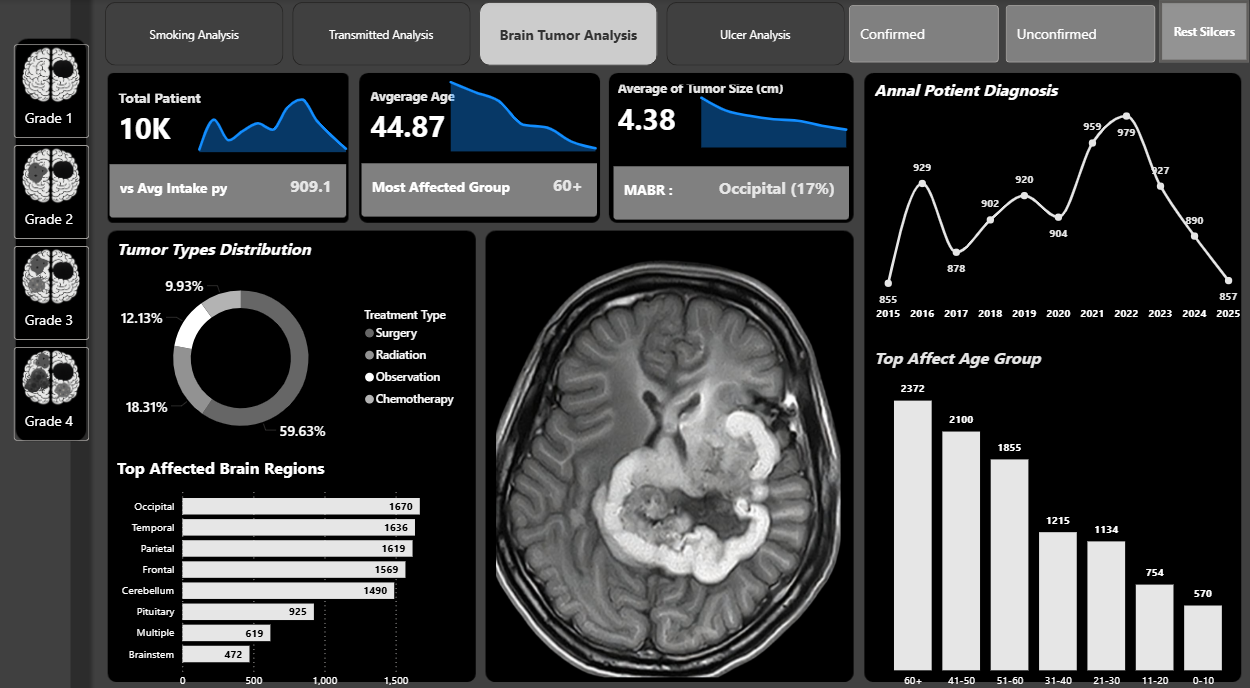

The page's visual inventory and layout, read from the dashboard file:
{"tool":"powerbi","page":{"name":"Brain Tumor Analysis","canvas":[1440,810],"ordinal":2},"visuals":[{"type":"cardVisual","fields":{"Data":["CountNonNull(Brain Tumor Data.Patient ID)"]},"box":[107.4,94.1,170.6,89.7],"z":0},{"type":"lineChart","title":"Total Patient ID by Year","fields":{"Category":["Brain Tumor Data.Date of Diagnosis.Variation.Date Hierarchy.Year"],"Y":["CountNonNull(Brain Tumor Data.Patient ID)"]},"box":[213.2,94.1,198.5,89.7],"z":1000},{"type":"cardVisual","fields":{"Data":["CountNonNull(Brain Tumor Data.Patient ID)"]},"box":[97.1,79.4,330.9,204.4],"z":2000},{"type":"cardVisual","fields":{"Data":["DAX Measures.Avg of Age"]},"box":[397.4,93.5,192.2,89.6],"z":3000},{"type":"lineChart","title":"Total Patient ID by Year","fields":{"Category":["Brain Tumor Data.Age Group"],"Y":["CountNonNull(Brain Tumor Data.Patient ID)"]},"box":[501.5,79.4,198.5,104.4],"z":4000},{"type":"cardVisual","fields":{"Data":["CountNonNull(Brain Tumor Data.Patient ID)"]},"box":[387,77.9,329.9,205.2],"z":5000},{"type":"cardVisual","fields":{"Data":["Avg(Brain Tumor Data.Tumor Size (cm))"]},"box":[681.8,84.4,251.9,89.6],"z":6000},{"type":"lineChart","title":"Total Patient ID by Year","fields":{"Category":["Brain Tumor Data.Age Group"],"Y":["Sum(Brain Tumor Data.Tumor Size (cm))"]},"box":[789.6,76.6,198.7,103.9],"z":7000},{"type":"cardVisual","fields":{"Data":["CountNonNull(Brain Tumor Data.Patient ID)"]},"box":[676.6,80.5,329.9,205.2],"z":8000},{"type":"advancedSlicerVisual","fields":{"Values":["Brain Tumor Data.Histology Confirmation"]},"box":[971,5.8,362.3,76.8],"z":9000},{"type":"advancedSlicerVisual","fields":{"Values":["Tumor Images.Tumor Grade"]},"box":[10.1,50.7,97.1,469.6],"z":10000},{"type":"image","box":[564.9,277.9,405.2,527.3],"z":11000},{"type":"donutChart","title":"Tumor Types  Distribution","fields":{"Category":["Brain Tumor Data.Treatment Type"],"Y":["CountNonNull(Brain Tumor Data.Patient ID)"]},"box":[129.9,277.9,410.4,251.9],"z":12000},{"type":"clusteredBarChart","title":"Top Affected Brain Regions","fields":{"Category":["Brain Tumor Data.Affected Brain Region"],"Y":["CountNonNull(Brain Tumor Data.Patient ID)"]},"box":[129.9,529.9,410.4,275.3],"z":13000},{"type":"lineChart","title":"Annal Potient  Diagnosis","fields":{"Y":["CountNonNull(Brain Tumor Data.Patient ID)"],"Category":["Brain Tumor Data.Date of Diagnosis.Variation.Date Hierarchy.Year"]},"box":[1000,94.8,432.5,288.3],"z":14000},{"type":"clusteredColumnChart","title":"Top Affect Age Group","fields":{"Category":["Brain Tumor Data.Age Group"],"Y":["CountNonNull(Brain Tumor Data.Patient ID)"]},"box":[1000,403.9,432.5,401.3],"z":15000},{"type":"pageNavigator","box":[120.3,7.2,850.7,73.9],"z":16000},{"type":"actionButton","box":[1333.3,5.8,102.9,71],"z":17000}]}

Visuals, with their boxes in screenshot pixels (x1, y1, x2, y2), scaled from the page's 1440x810 canvas onto the 1250x688 screenshot:
cardVisual - CountNonNull(Brain Tumor Data.Patient ID): BBox(93, 80, 241, 156)
"Total Patient ID by Year" lineChart: BBox(185, 80, 357, 156)
cardVisual - CountNonNull(Brain Tumor Data.Patient ID): BBox(84, 67, 372, 241)
cardVisual - DAX Measures.Avg of Age: BBox(345, 79, 512, 156)
"Total Patient ID by Year" lineChart: BBox(435, 67, 608, 156)
cardVisual - CountNonNull(Brain Tumor Data.Patient ID): BBox(336, 66, 622, 240)
cardVisual - Avg(Brain Tumor Data.Tumor Size (cm)): BBox(592, 72, 811, 148)
"Total Patient ID by Year" lineChart: BBox(685, 65, 858, 153)
cardVisual - CountNonNull(Brain Tumor Data.Patient ID): BBox(587, 68, 874, 243)
advancedSlicerVisual - Brain Tumor Data.Histology Confirmation: BBox(843, 5, 1157, 70)
advancedSlicerVisual - Tumor Images.Tumor Grade: BBox(9, 43, 93, 442)
image: BBox(490, 236, 842, 684)
"Tumor Types  Distribution" donutChart: BBox(113, 236, 469, 450)
"Top Affected Brain Regions" clusteredBarChart: BBox(113, 450, 469, 684)
"Annal Potient  Diagnosis" lineChart: BBox(868, 81, 1243, 325)
"Top Affect Age Group" clusteredColumnChart: BBox(868, 343, 1243, 684)
pageNavigator: BBox(104, 6, 843, 69)
actionButton: BBox(1157, 5, 1247, 65)
